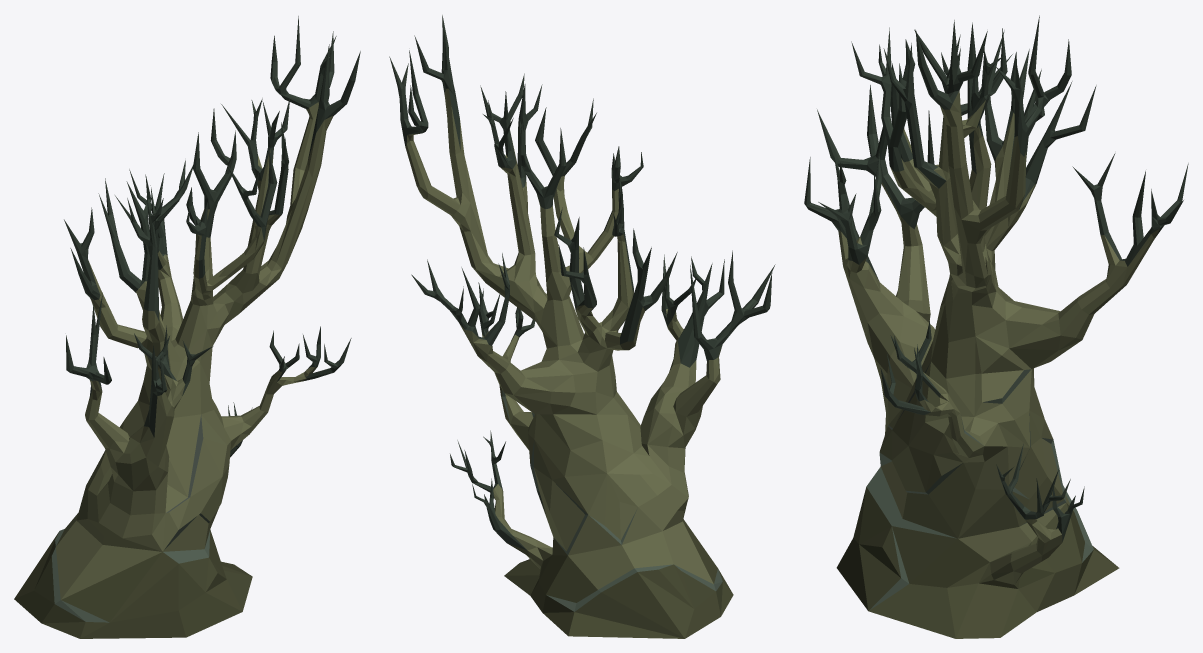
Rendered from SM_Tree_005.glb.
The picture shows the model from 3 angles, left to right: view 1: azimuth 30°, elevation 25°; view 2: azimuth 150°, elevation 25°; view 3: azimuth 270°, elevation 25°; orthographic projection. The views are drawn at different scales.
Parts seen in each view (by area): view 1: SM_Tree_005; view 2: SM_Tree_005; view 3: SM_Tree_005.
Part boxes in pixels (bbox=[...]): SM_Tree_005: bbox=[14, 16, 360, 638]; SM_Tree_005: bbox=[389, 15, 775, 638]; SM_Tree_005: bbox=[804, 15, 1188, 638].
Size of the model in its own units: 13.73 by 20.85 by 10.77.
Materials: 1 (1 with a texture image).
